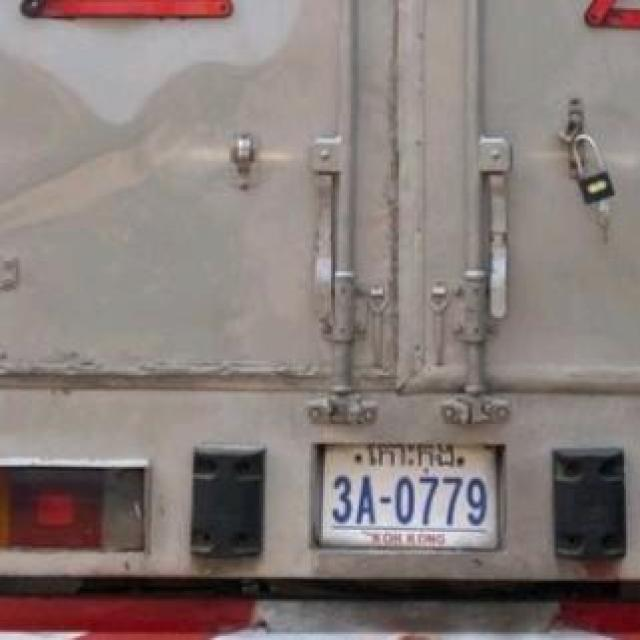Koh_Kong: (367, 442, 456, 474)
